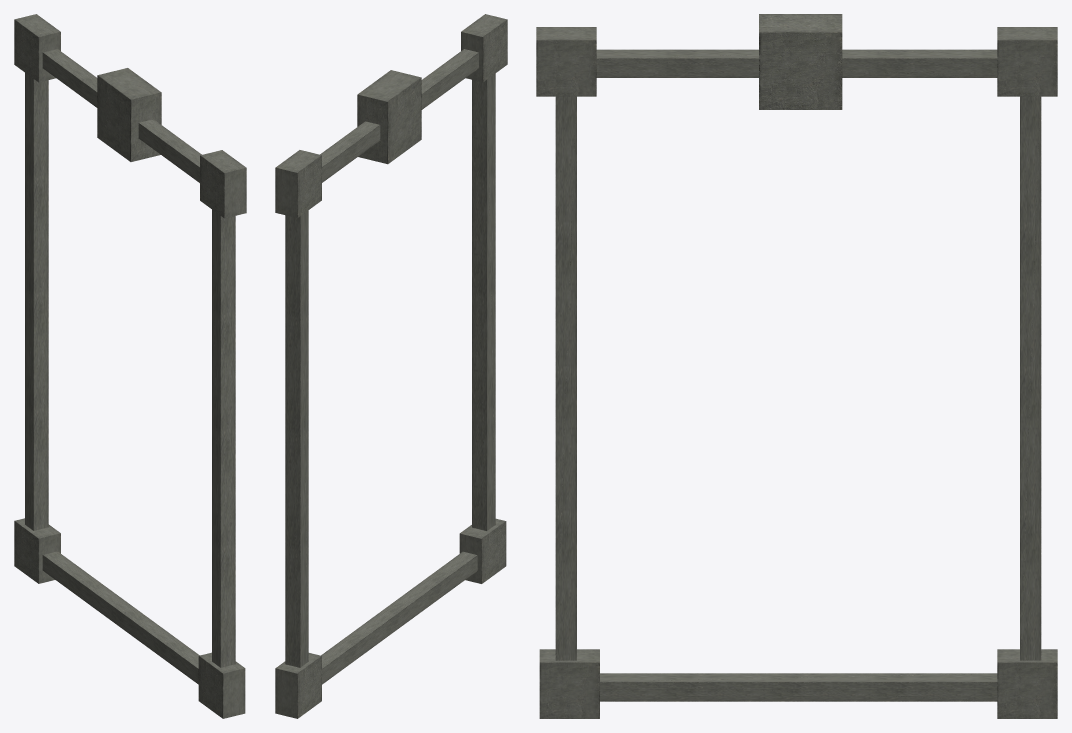
Rendered from guanggaopai_dengkuang01.FBX.
3 views of the same model, side by side, from view 1: azimuth 30°, elevation 25°; view 2: azimuth 150°, elevation 25°; view 3: azimuth 270°, elevation 25° (orthographic). The views are drawn at different scales.
Parts seen in each view (by area): view 1: Box010; view 2: Box010; view 3: Box010.
Part boxes in pixels (x1,y1,x2,y2): Box010: [14, 14, 246, 718]; Box010: [275, 14, 507, 718]; Box010: [536, 14, 1057, 718].
Bounding box in the file's own units: 1.38 × 23.97 × 16.44.
